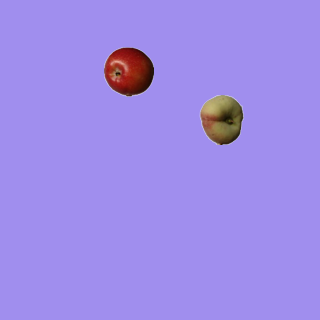Apple Braeburn: (103, 46, 153, 96)
Peach Flat: (196, 94, 246, 144)
